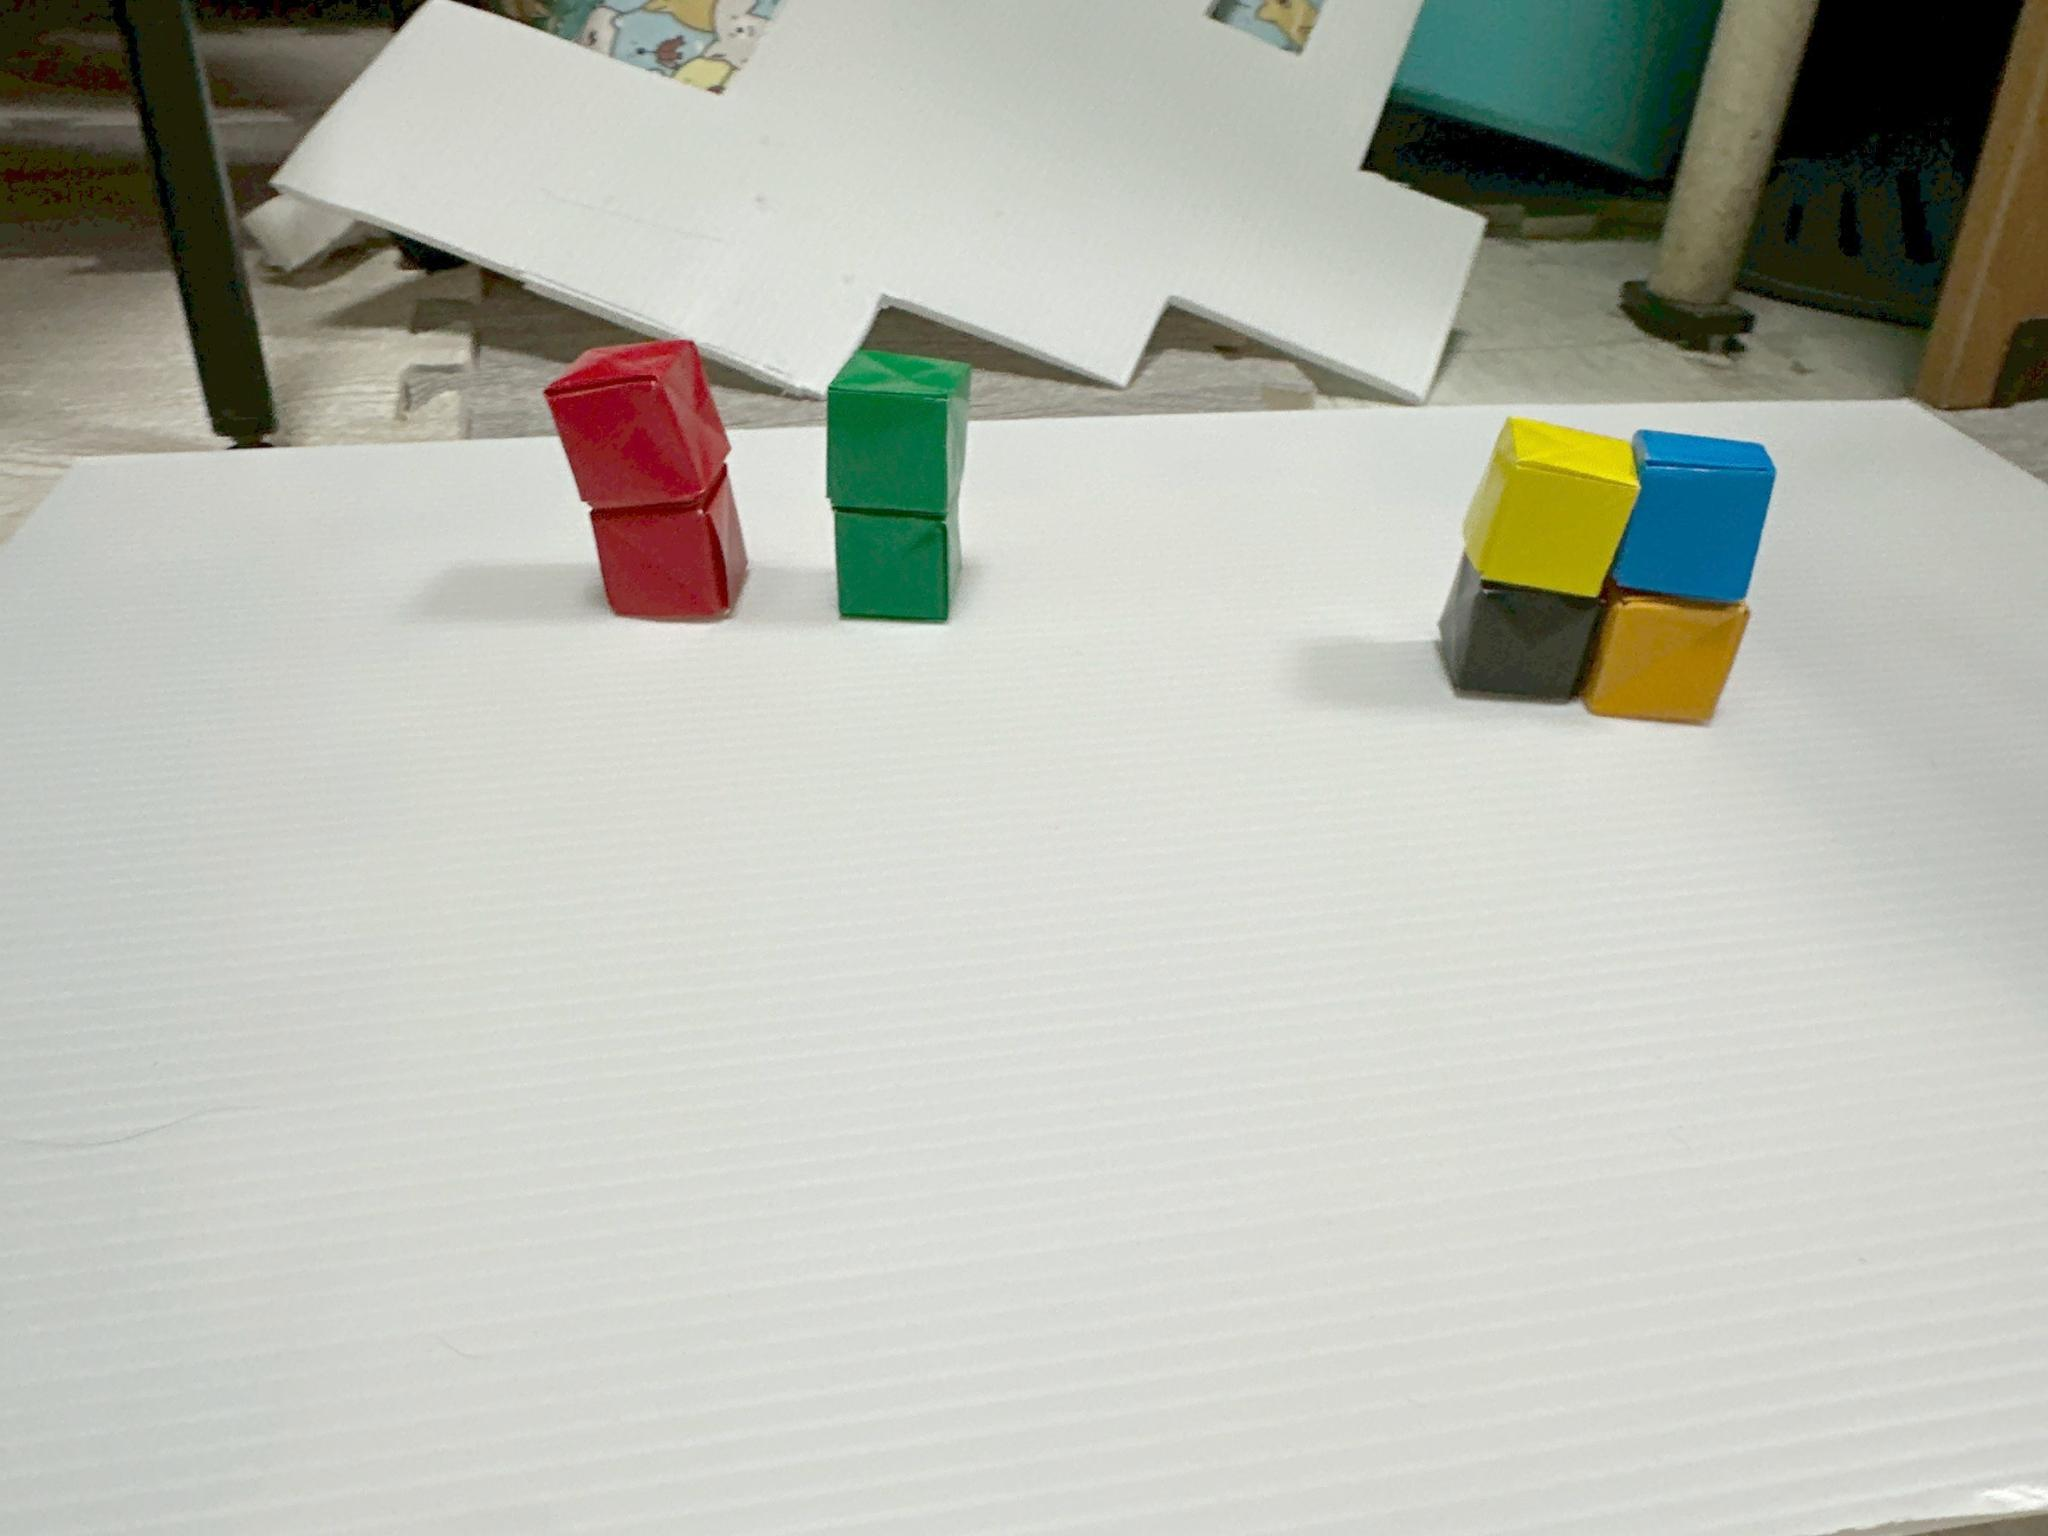base: (1464, 416, 1638, 597), (545, 342, 731, 508), (1613, 429, 1777, 603), (592, 466, 748, 621), (1438, 558, 1605, 702), (827, 352, 969, 515), (1582, 589, 1750, 723), (834, 507, 959, 621)
